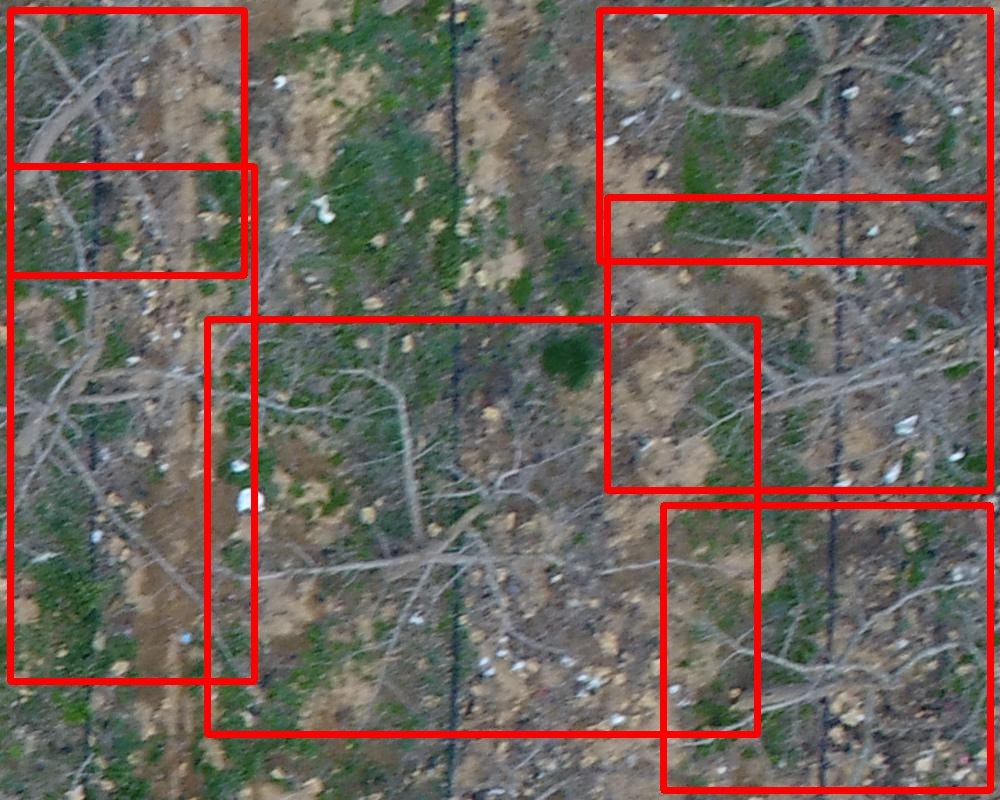apple: (207, 319, 757, 734), (10, 166, 254, 681), (607, 197, 990, 490), (599, 10, 990, 261), (663, 505, 990, 790), (10, 10, 244, 275)
